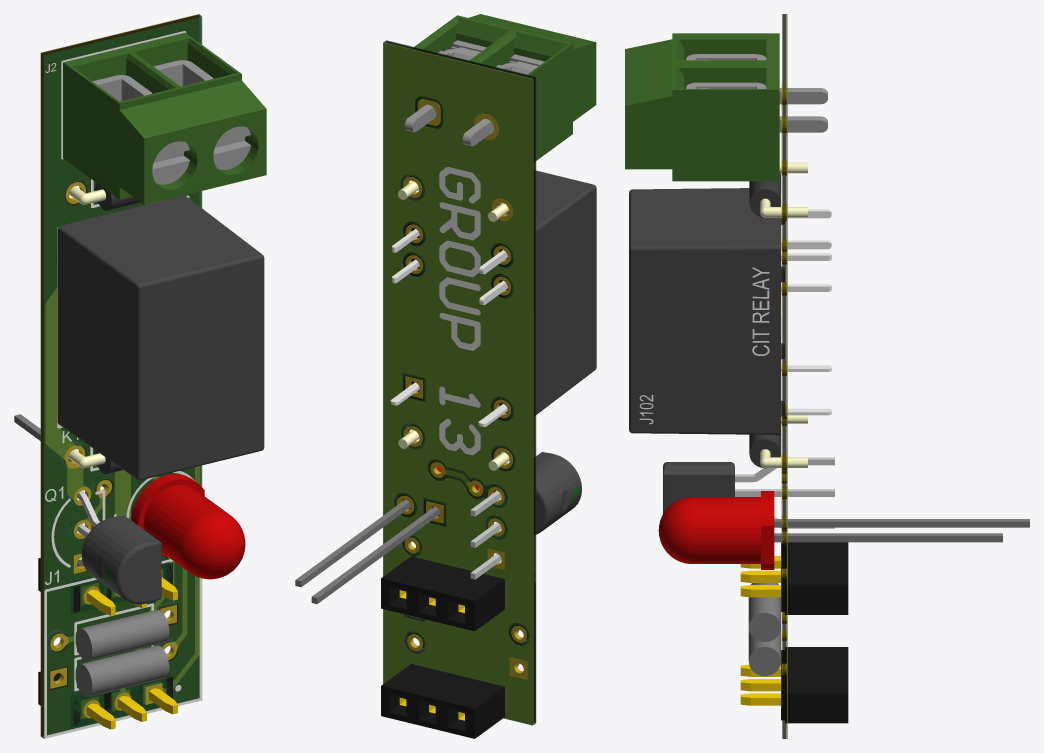
File: actuator.pdf.obj
3 renders of one model, left to right at view 1: azimuth 30°, elevation 25°; view 2: azimuth 150°, elevation 25°; view 3: azimuth 270°, elevation 25°, orthographic. The views are drawn at different scales.
Parts seen in each view (by area): view 1: ComponentBody.8, Solder_Top, Core, ComponentBody.23, ComponentBody.19, ComponentBody.27, ComponentBody.29, ComponentBody.15, Top, GND, ComponentBody.6, ComponentBody.32 (+20 smaller); view 2: Solder_Bottom, GND, ComponentBody.8, ComponentBody.5, ComponentBody.3, Core, ComponentBody.23, Bottom, ComponentBody.26, ComponentBody.29, ComponentBody.19, Solder_Top (+9 smaller); view 3: ComponentBody.8, ComponentBody.15, ComponentBody.27, ComponentBody.5, ComponentBody.3, ComponentBody.26, ComponentBody.19, Core, ComponentBody.23, ComponentBody.29, ComponentBody.9, ComponentBody.6 (+12 smaller).
Part boxes in pixels (x1,y1,x2,y2): ComponentBody.8: [56, 195, 264, 480]; Solder_Top: [44, 17, 202, 738]; Core: [41, 14, 201, 738]; ComponentBody.23: [63, 55, 174, 204]; ComponentBody.19: [94, 40, 235, 197]; ComponentBody.27: [143, 485, 245, 579]; ComponentBody.29: [81, 515, 161, 604]; ComponentBody.15: [155, 32, 266, 182]; Top: [44, 31, 202, 738]; GND: [40, 14, 198, 736]; ComponentBody.6: [75, 609, 169, 661]; ComponentBody.32: [75, 645, 169, 696]; Solder_Bottom: [383, 42, 532, 725]; GND: [383, 42, 533, 724]; ComponentBody.8: [403, 170, 596, 419]; ComponentBody.5: [381, 664, 504, 738]; ComponentBody.3: [381, 556, 504, 631]; Core: [384, 40, 535, 724]; ComponentBody.23: [527, 35, 596, 160]; Bottom: [439, 167, 480, 455]; ComponentBody.26: [295, 499, 440, 603]; ComponentBody.29: [535, 452, 581, 534]; ComponentBody.19: [439, 21, 566, 124]; Solder_Top: [386, 40, 536, 722]; ComponentBody.8: [629, 188, 784, 434]; ComponentBody.15: [625, 75, 779, 181]; ComponentBody.27: [658, 497, 760, 563]; ComponentBody.5: [781, 647, 848, 723]; ComponentBody.3: [781, 542, 848, 614]; ComponentBody.26: [774, 519, 1029, 542]; ComponentBody.19: [625, 47, 779, 91]; Core: [782, 14, 786, 738]; ComponentBody.23: [625, 33, 779, 63]; ComponentBody.29: [663, 462, 734, 513]; ComponentBody.9: [781, 209, 831, 415]; ComponentBody.6: [748, 583, 780, 641].
Bounding box in the file's own units: 1.3 × 5.34 × 3.01.
